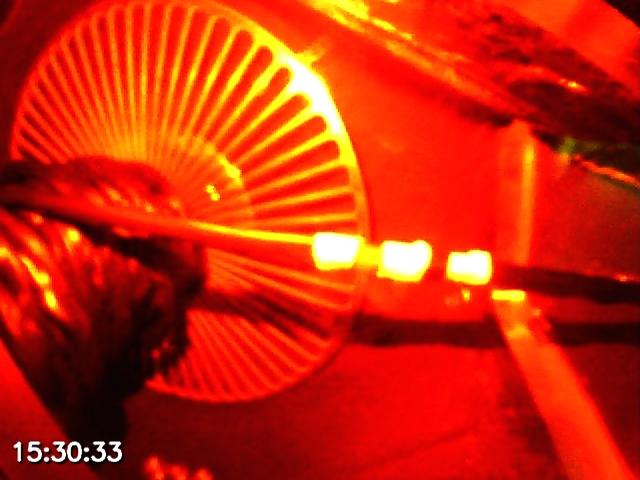white-dots: (310, 230, 494, 285)
